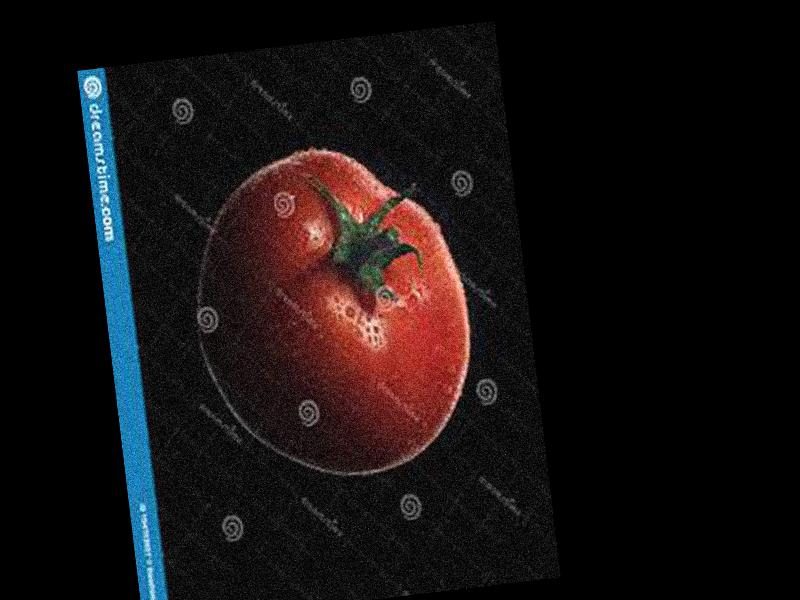Tomato: (180, 132, 486, 493)
